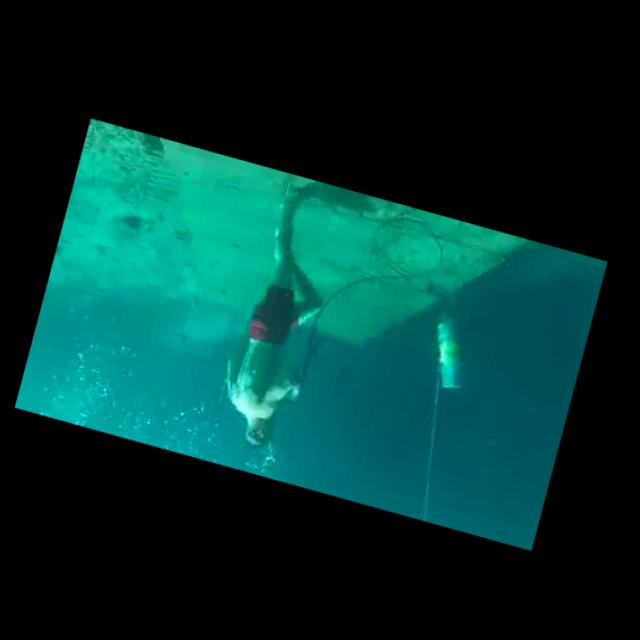human: (206, 167, 357, 460)
